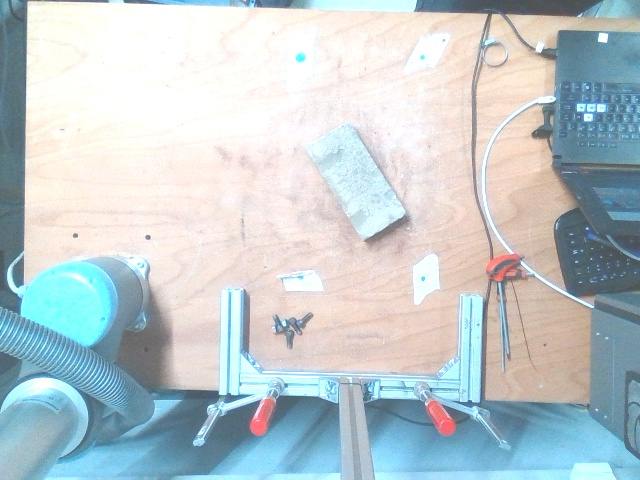brick: (310, 123, 405, 237)
